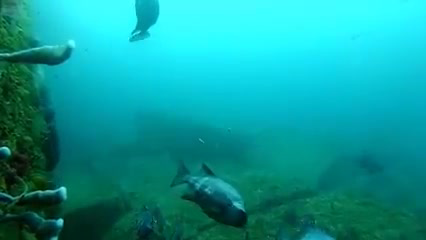smallfish: (173, 161, 248, 230)
